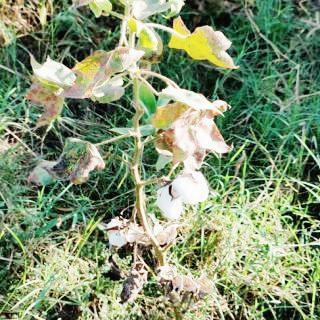blight: (17, 37, 149, 138), (153, 92, 239, 179), (118, 252, 238, 312)
curl: (151, 91, 235, 178)
